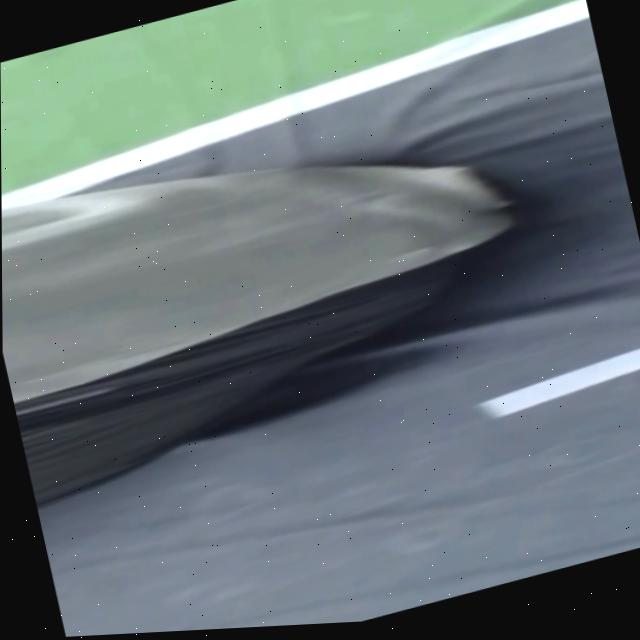center: (478, 348, 640, 416)
right: (1, 0, 590, 208)
